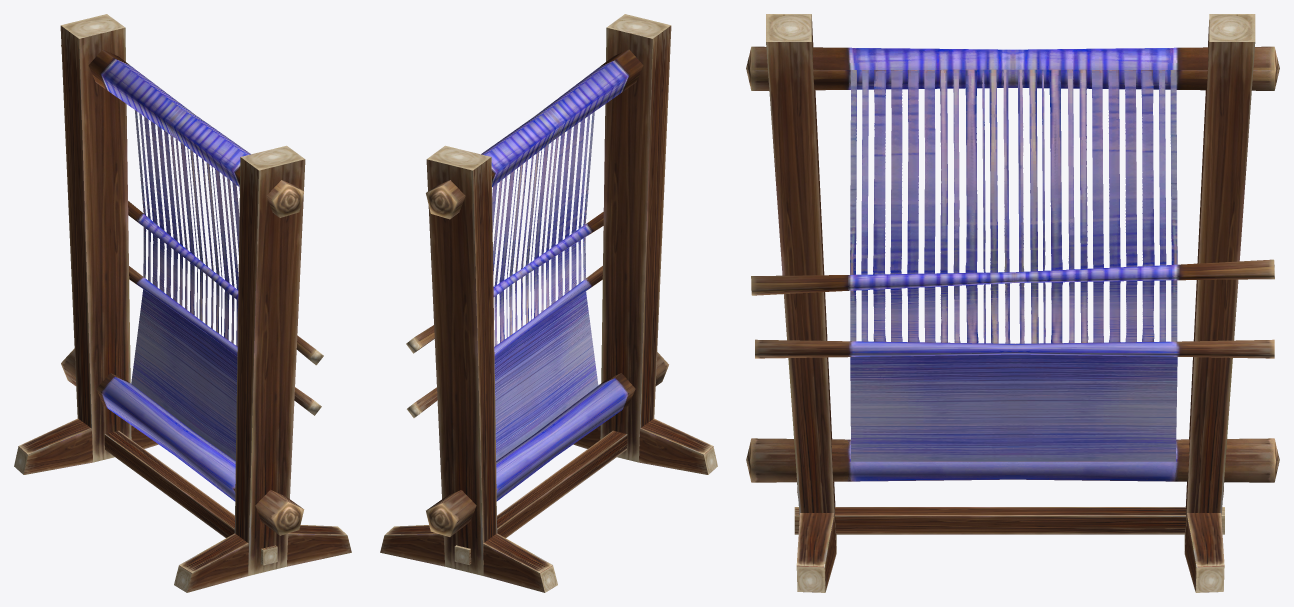
The model's file is loomhumanblue.obj.
The picture shows the model from 3 angles, left to right: view 1: azimuth 30°, elevation 25°; view 2: azimuth 150°, elevation 25°; view 3: azimuth 270°, elevation 25°; orthographic projection. The views are drawn at different scales.
Parts seen in each view (by area): view 1: loomhumanblue; view 2: loomhumanblue; view 3: loomhumanblue.
Part boxes in pixels (box(x1,y1,x2,y2)): loomhumanblue: box(14, 14, 351, 592); loomhumanblue: box(380, 14, 717, 592); loomhumanblue: box(746, 14, 1279, 592).
Size of the model in its own units: 0.9687 by 2.29 by 2.16.
1 material, 1 textured.
